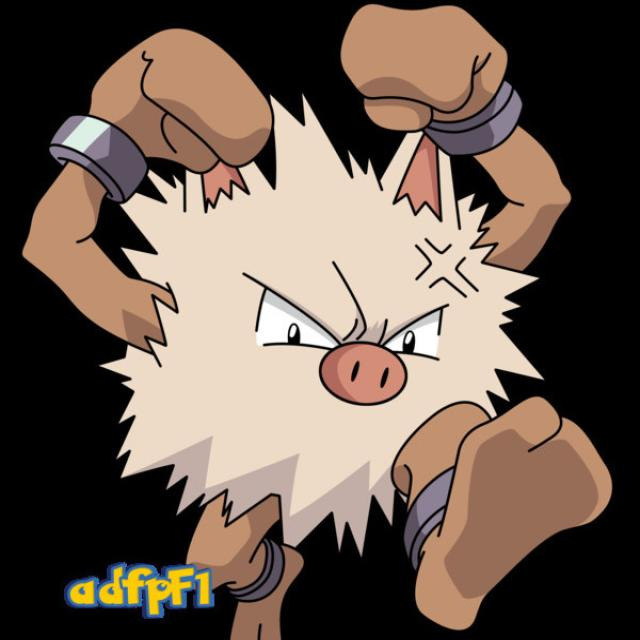Primeape: (91, 72, 560, 578)
